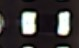COMP: (17, 6, 74, 40)
